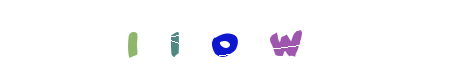1: (111, 0, 191, 80)
I: (184, 0, 264, 80)
O: (190, 0, 270, 80)
W: (243, 0, 323, 80)
